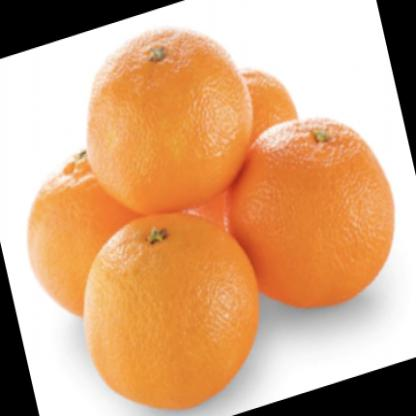orange: (83, 209, 265, 407), (229, 117, 398, 312), (86, 24, 252, 210)
